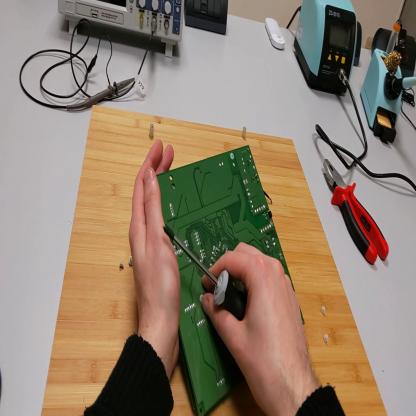hand: (202, 240, 315, 404), (129, 140, 183, 342)
low voltage board: (156, 145, 305, 416)
oscilloscope: (59, 2, 184, 59)
oscilloscope probe tip: (69, 79, 138, 117)
pliers: (324, 161, 390, 267)
screwdriver-: (164, 227, 246, 322)
socket: (373, 27, 416, 75), (353, 17, 363, 68)
welder base: (365, 16, 405, 145)
welder probe tip: (392, 79, 416, 93)
welder station: (295, 1, 359, 100)
working area: (42, 103, 387, 414)
